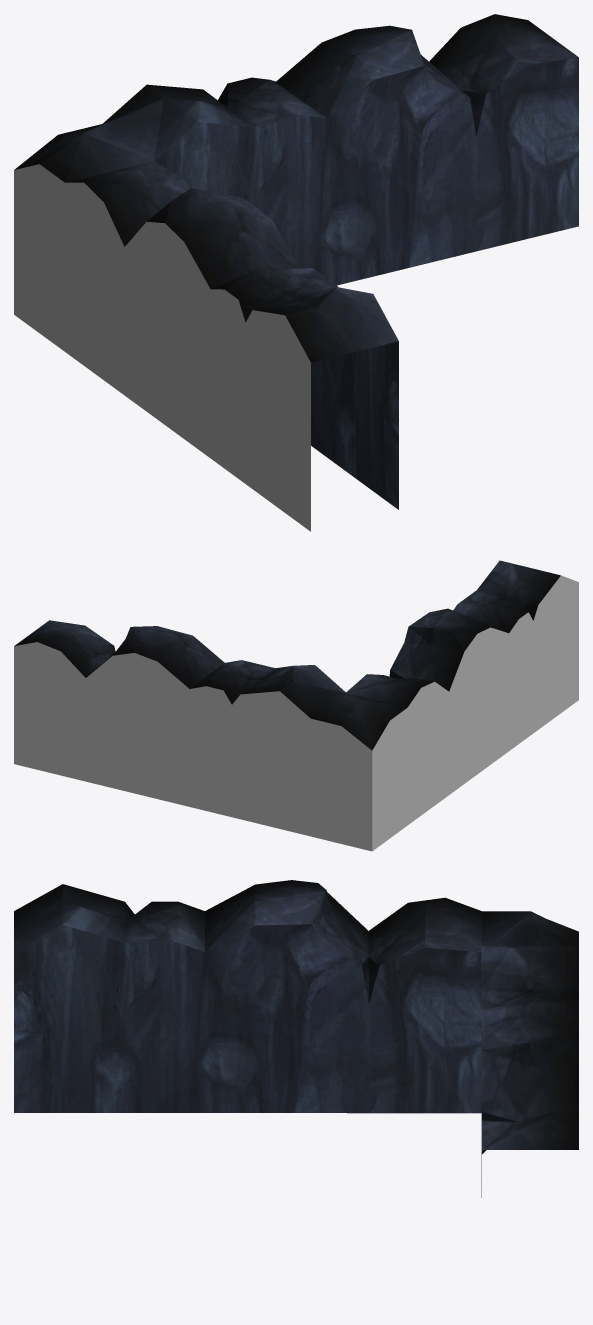
The model's file is mine_broken_concave_01.fbx.
3 renders of one model, top to bottom at view 1: azimuth 30°, elevation 25°; view 2: azimuth 150°, elevation 25°; view 3: azimuth 270°, elevation 25°, orthographic. The views are drawn at different scales.
Visible parts, largest first — view 1: mine_broken_concave_01-0; view 2: mine_broken_concave_01-0; view 3: mine_broken_concave_01-0.
Part boxes in pixels (x1,y1,x2,y2): mine_broken_concave_01-0: (14,14,578,531); mine_broken_concave_01-0: (14,560,578,851); mine_broken_concave_01-0: (14,880,578,1197).
Size of the model in its own units: 4.38 by 1.73 by 4.38.
